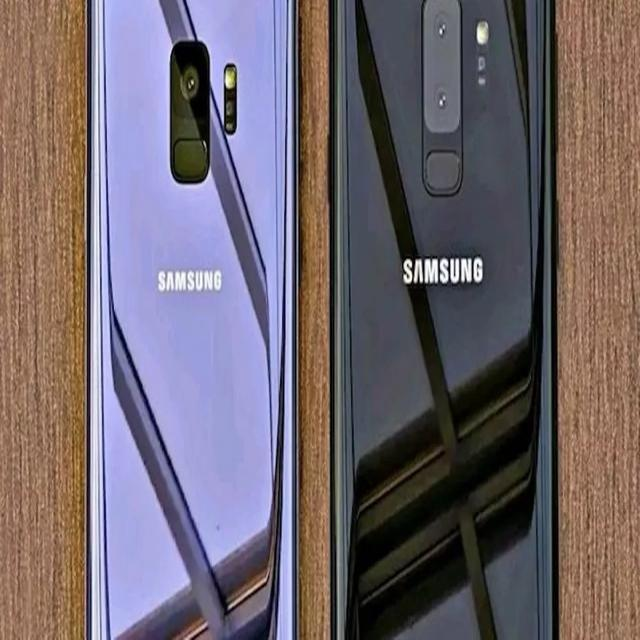mobile phone: (329, 0, 552, 637), (85, 1, 294, 636)
